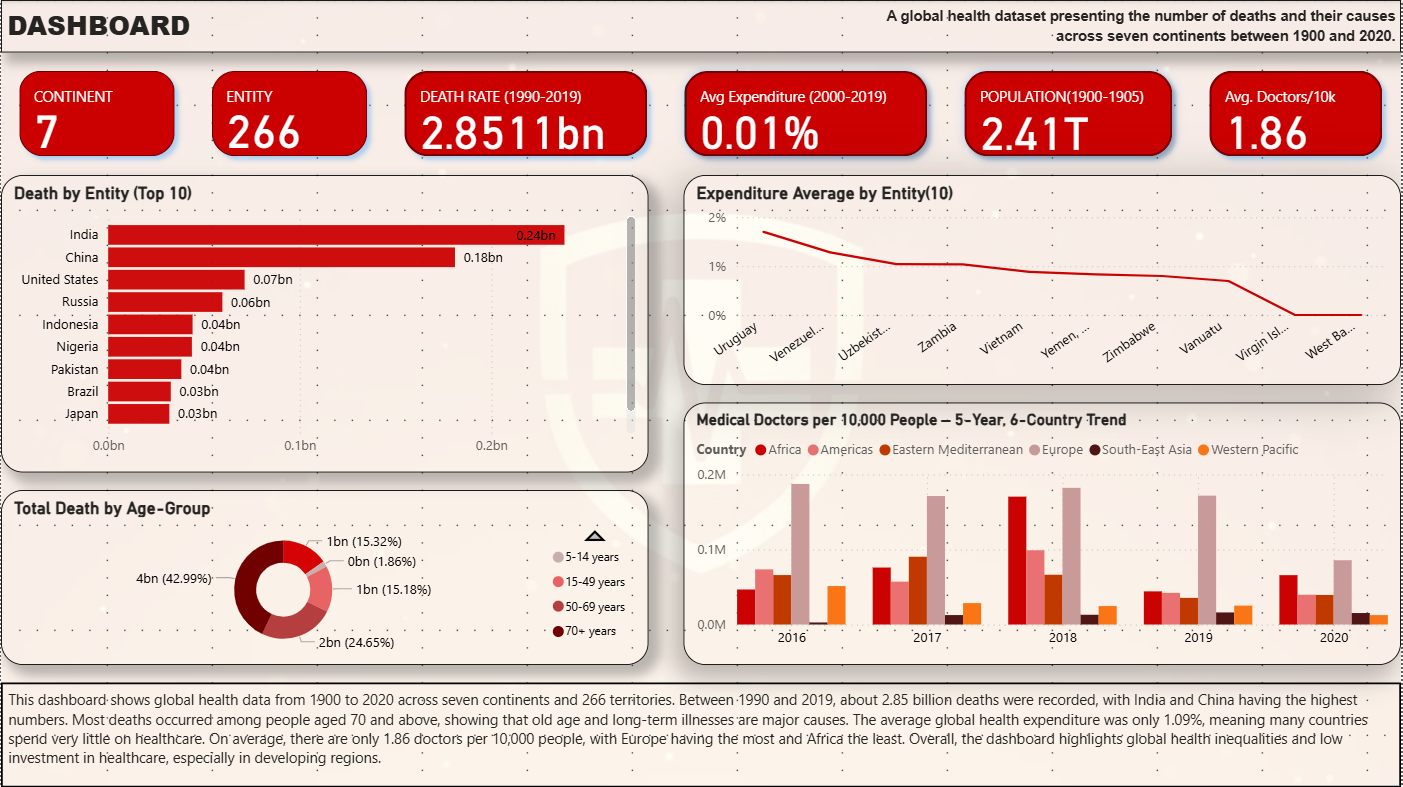

This screenshot's page, from the dashboard's own definition file:
{"tool":"powerbi","page":{"name":"DASHBOARD","canvas":[1280,720],"ordinal":0},"visuals":[{"type":"cardVisual","fields":{"Data":["MEASURES TABLE.C-COUNTRY(T1)"]},"box":[176,48,176,112],"z":0},{"type":"cardVisual","fields":{"Data":["Avg(Sheet1.% of doctors)"]},"box":[1088,48,192,112],"z":1000},{"type":"cardVisual","fields":{"Data":["MEASURES TABLE.Total death"]},"box":[352,48,256,112],"z":2000},{"type":"cardVisual","fields":{"Data":["MEASURES TABLE.TOTAL-POPULATION"]},"box":[864,48,224,112],"z":3000},{"type":"cardVisual","fields":{"Data":["Count(Country & Continent.Continent)"]},"box":[0,48,176,112],"z":4000},{"type":"cardVisual","fields":{"Data":["Avg(Table 1 (Current health expenditure).Avg expenditure)"]},"box":[608,48,256,112],"z":5000},{"type":"clusteredBarChart","title":"Death by Entity (Top 10) ","fields":{"Category":["Annual-deaths-by-cause.Entity"],"Y":["Sum(Annual-deaths-by-cause.Total Death)"]},"box":[0,160,592,272],"z":6000},{"type":"donutChart","title":"Total Death by Age-Group","fields":{"Y":["Sum(Deaths-by-age-group.Deaths Under 5)","Sum(Deaths-by-age-group.Deaths 5-14 years)","Sum(Deaths-by-age-group.Deaths Age: 15-49 years)","Sum(Deaths-by-age-group.Deaths 50-69 years)","Sum(Deaths-by-age-group.Deaths 70+ years)"]},"box":[0,448,592,160],"z":7000},{"type":"clusteredColumnChart","title":"Medical Doctors per 10,000 People – 5-Year, 6-Country Trend","fields":{"Category":["Sheet1.Year"],"Series":["Sheet1.Country"],"Y":["Sum(Sheet1.FactValueNumeric)"]},"box":[624,368,656,240],"z":8000},{"type":"lineChart","title":"Expenditure Average by Entity(10)","fields":{"Category":["Table 1 (Current health expenditure).Country Name"],"Y":["Avg(Table 1 (Current health expenditure).Total for the year)"]},"box":[624,160,656,192],"z":9000},{"type":"textbox","box":[0,0,1280,48],"z":10000},{"type":"textbox","box":[768,0,512,48],"z":11000},{"type":"textbox","box":[0,624,1280,96],"z":12000}]}

Visuals, with their boxes in screenshot pixels (x1, y1, x2, y2), scaled from the page's 1280x720 canvas onto the 1403x787 screenshot:
cardVisual - MEASURES TABLE.C-COUNTRY(T1): x1=193 y1=52 x2=386 y2=175
cardVisual - Avg(Sheet1.% of doctors): x1=1193 y1=52 x2=1402 y2=175
cardVisual - MEASURES TABLE.Total death: x1=386 y1=52 x2=666 y2=175
cardVisual - MEASURES TABLE.TOTAL-POPULATION: x1=947 y1=52 x2=1193 y2=175
cardVisual - Count(Country & Continent.Continent): x1=0 y1=52 x2=193 y2=175
cardVisual - Avg(Table 1 (Current health expenditure).Avg expenditure): x1=666 y1=52 x2=947 y2=175
"Death by Entity (Top 10) " clusteredBarChart: x1=0 y1=175 x2=649 y2=472
"Total Death by Age-Group" donutChart: x1=0 y1=490 x2=649 y2=665
"Medical Doctors per 10,000 People – 5-Year, 6-Country Trend" clusteredColumnChart: x1=684 y1=402 x2=1402 y2=665
"Expenditure Average by Entity(10)" lineChart: x1=684 y1=175 x2=1402 y2=385
textbox: x1=0 y1=0 x2=1402 y2=52
textbox: x1=842 y1=0 x2=1402 y2=52
textbox: x1=0 y1=682 x2=1402 y2=786
